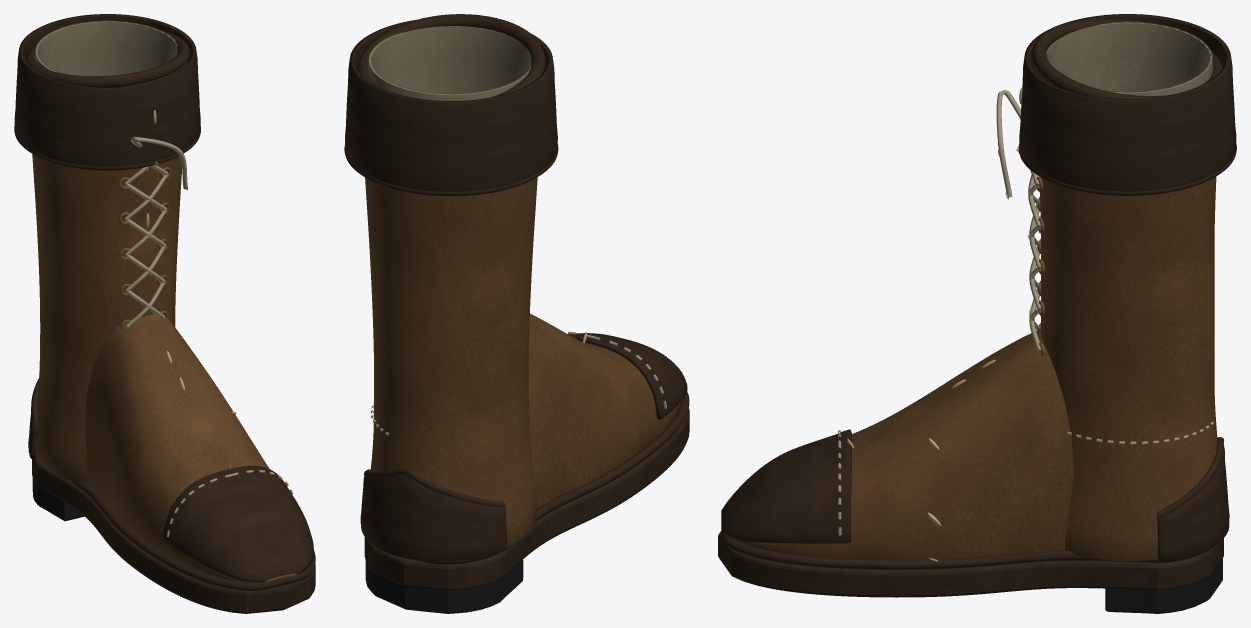
3 renders of one model, left to right at view 1: azimuth 30°, elevation 25°; view 2: azimuth 150°, elevation 25°; view 3: azimuth 270°, elevation 25°, orthographic. The views are drawn at different scales.
Visible parts, largest first — view 1: tanned leather, oiled strap leather, quilted linen lining, waxed linen thread, recess and lining, aged alloy edge; view 2: tanned leather, oiled strap leather, quilted linen lining, recess and lining; view 3: tanned leather, oiled strap leather, quilted linen lining, recess and lining, waxed linen thread.
Boxes of the visible parts, left/top/right/bottom form: tanned leather: left=32, top=61, right=296, bottom=582; oiled strap leather: left=14, top=14, right=315, bottom=613; quilted linen lining: left=34, top=20, right=177, bottom=75; waxed linen thread: left=125, top=136, right=293, bottom=537; recess and lining: left=32, top=478, right=84, bottom=521; aged alloy edge: left=118, top=167, right=170, bottom=329; tanned leather: left=365, top=177, right=681, bottom=545; oiled strap leather: left=344, top=14, right=689, bottom=590; quilted linen lining: left=368, top=26, right=531, bottom=100; recess and lining: left=365, top=560, right=523, bottom=613; tanned leather: left=734, top=66, right=1217, bottom=560; oiled strap leather: left=718, top=14, right=1236, bottom=597; quilted linen lining: left=1046, top=21, right=1212, bottom=95; recess and lining: left=1105, top=558, right=1222, bottom=613; waxed linen thread: left=838, top=90, right=1213, bottom=535.
Bounding box in the file's own units: 0.1178 × 0.3199 × 0.2812.
Materials: 7 (5 with a texture image).
